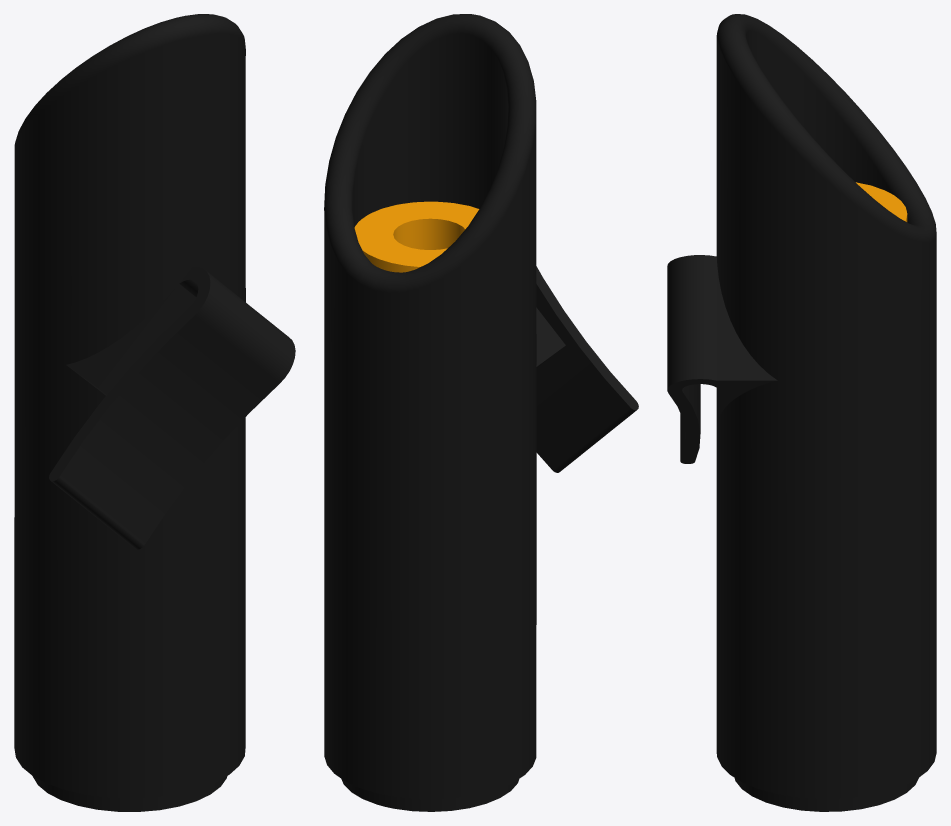
Rendered from Screwdriver_Holder.glb.
The picture shows the model from 3 angles, left to right: view 1: azimuth 30°, elevation 25°; view 2: azimuth 150°, elevation 25°; view 3: azimuth 270°, elevation 25°; orthographic projection. The views are drawn at different scales.
Visible parts, largest first — view 1: black satin finish plastic; view 2: black satin finish plastic, blue soft touch plastic; view 3: black satin finish plastic, blue soft touch plastic.
Part boxes in pixels (x1,y1,x2,y2): black satin finish plastic: (14,14,295,811); black satin finish plastic: (324,14,638,811); blue soft touch plastic: (354,201,479,272); black satin finish plastic: (667,14,936,811); blue soft touch plastic: (856,182,907,221).
Bounding box in the file's own units: 0.0378 × 0.1127 × 0.0367.
